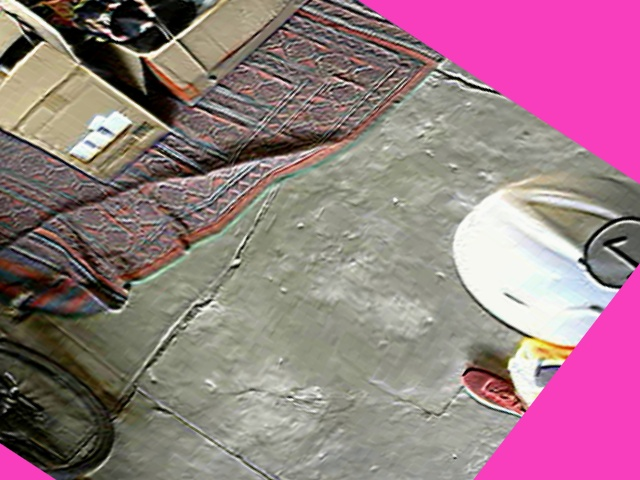one: (566, 207, 639, 297)
